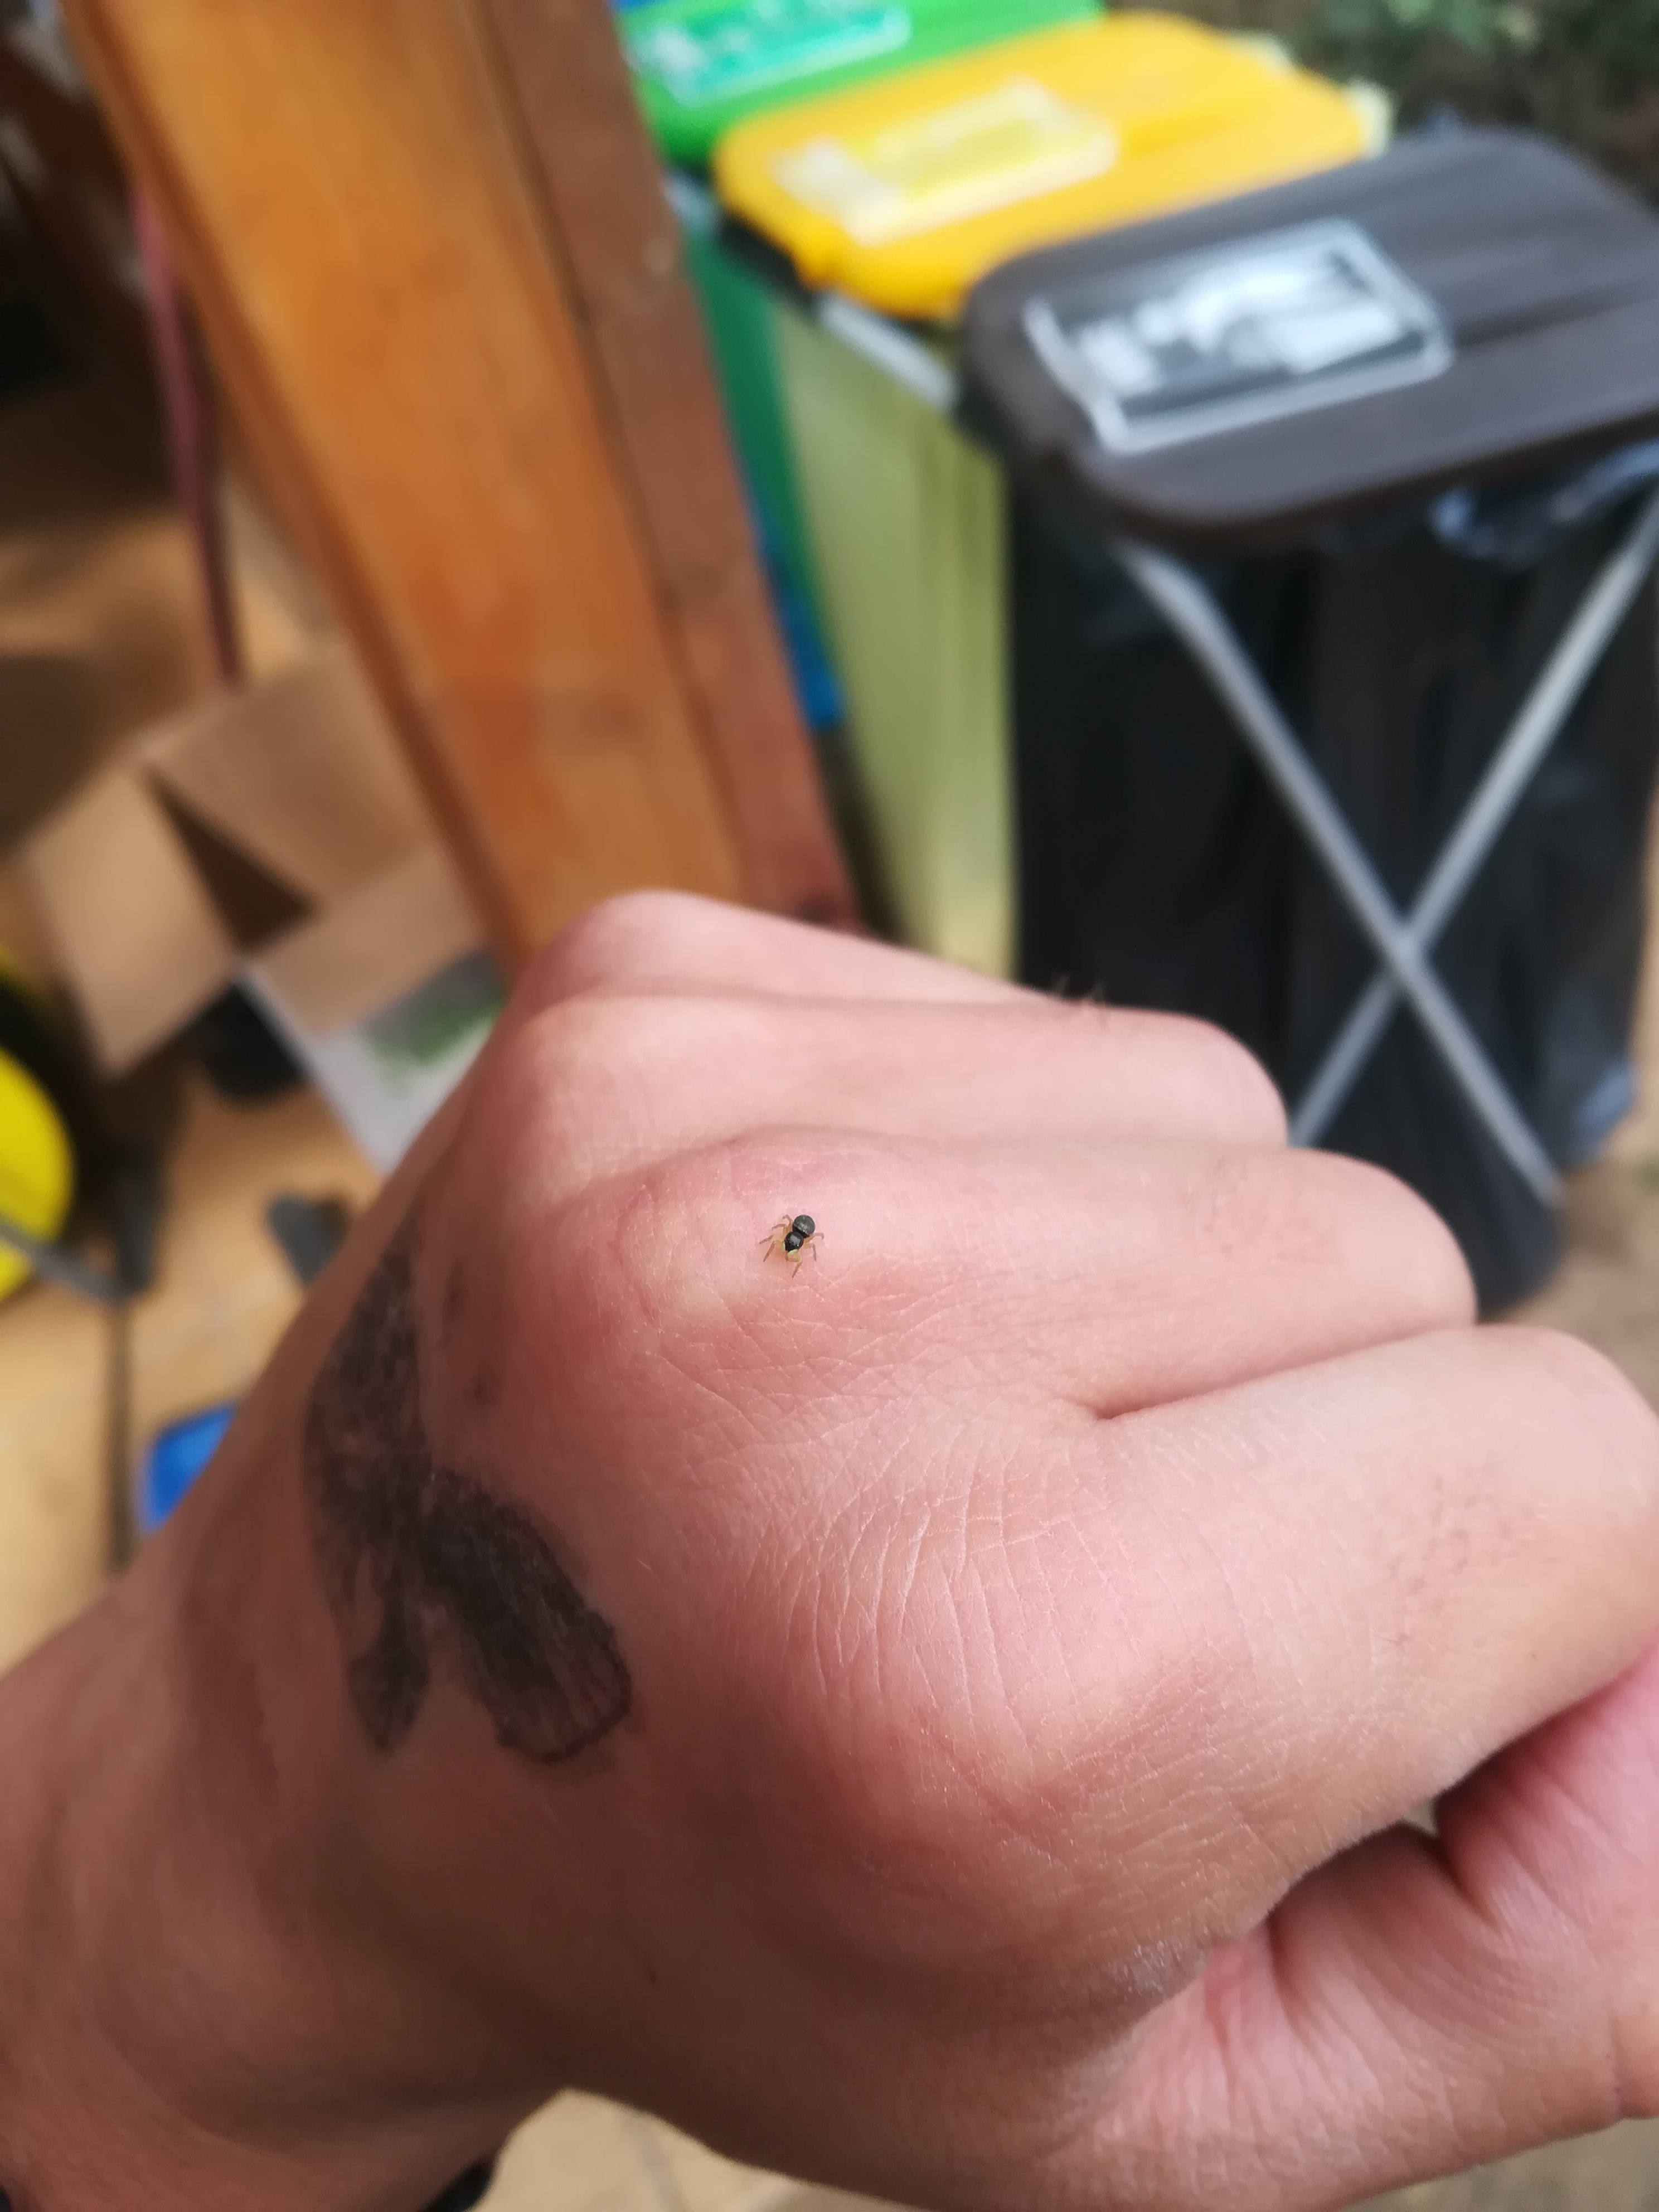spider: (746, 1191, 847, 1289)
